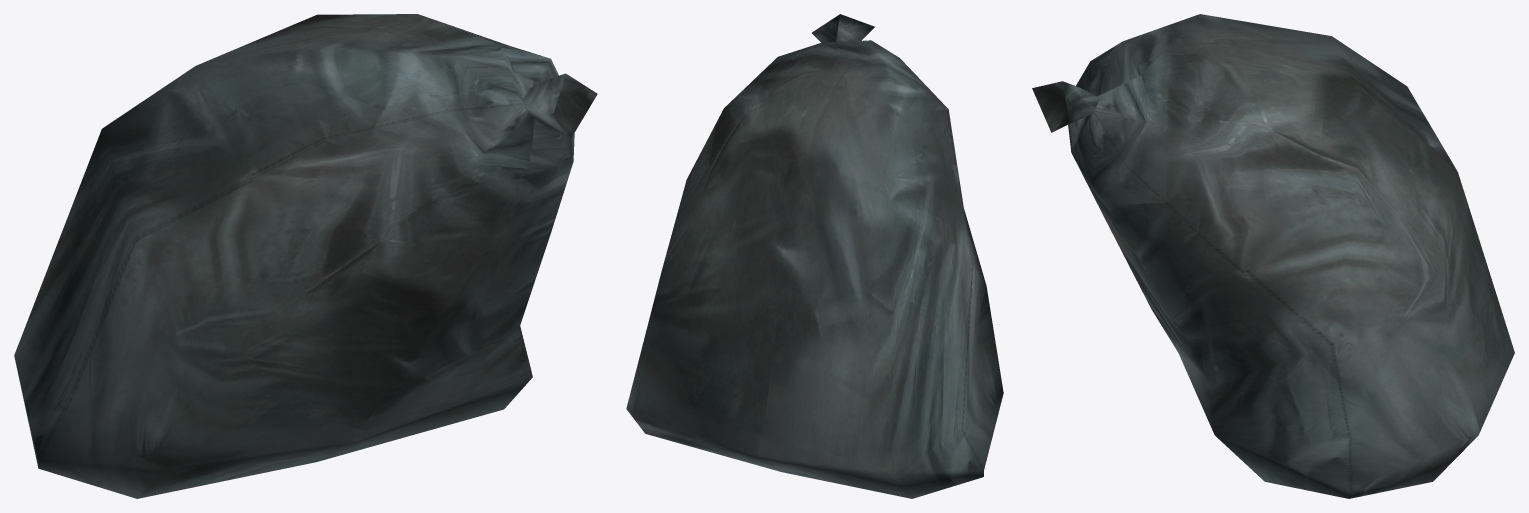
The model's file is M_Home_Garden_garbage2.fbx.
3 views of the same model, side by side, from view 1: azimuth 30°, elevation 25°; view 2: azimuth 150°, elevation 25°; view 3: azimuth 270°, elevation 25° (orthographic). The views are drawn at different scales.
Parts seen in each view (by area): view 1: M_Home_Garden_garbage2; view 2: M_Home_Garden_garbage2; view 3: M_Home_Garden_garbage2.
Boxes of the visible parts, x1,y1,x2,y2 form: M_Home_Garden_garbage2: (14,14,597,498); M_Home_Garden_garbage2: (626,14,1003,498); M_Home_Garden_garbage2: (1032,14,1514,498).
Size of the model in its own units: 77.48 by 71.3 by 81.2.
